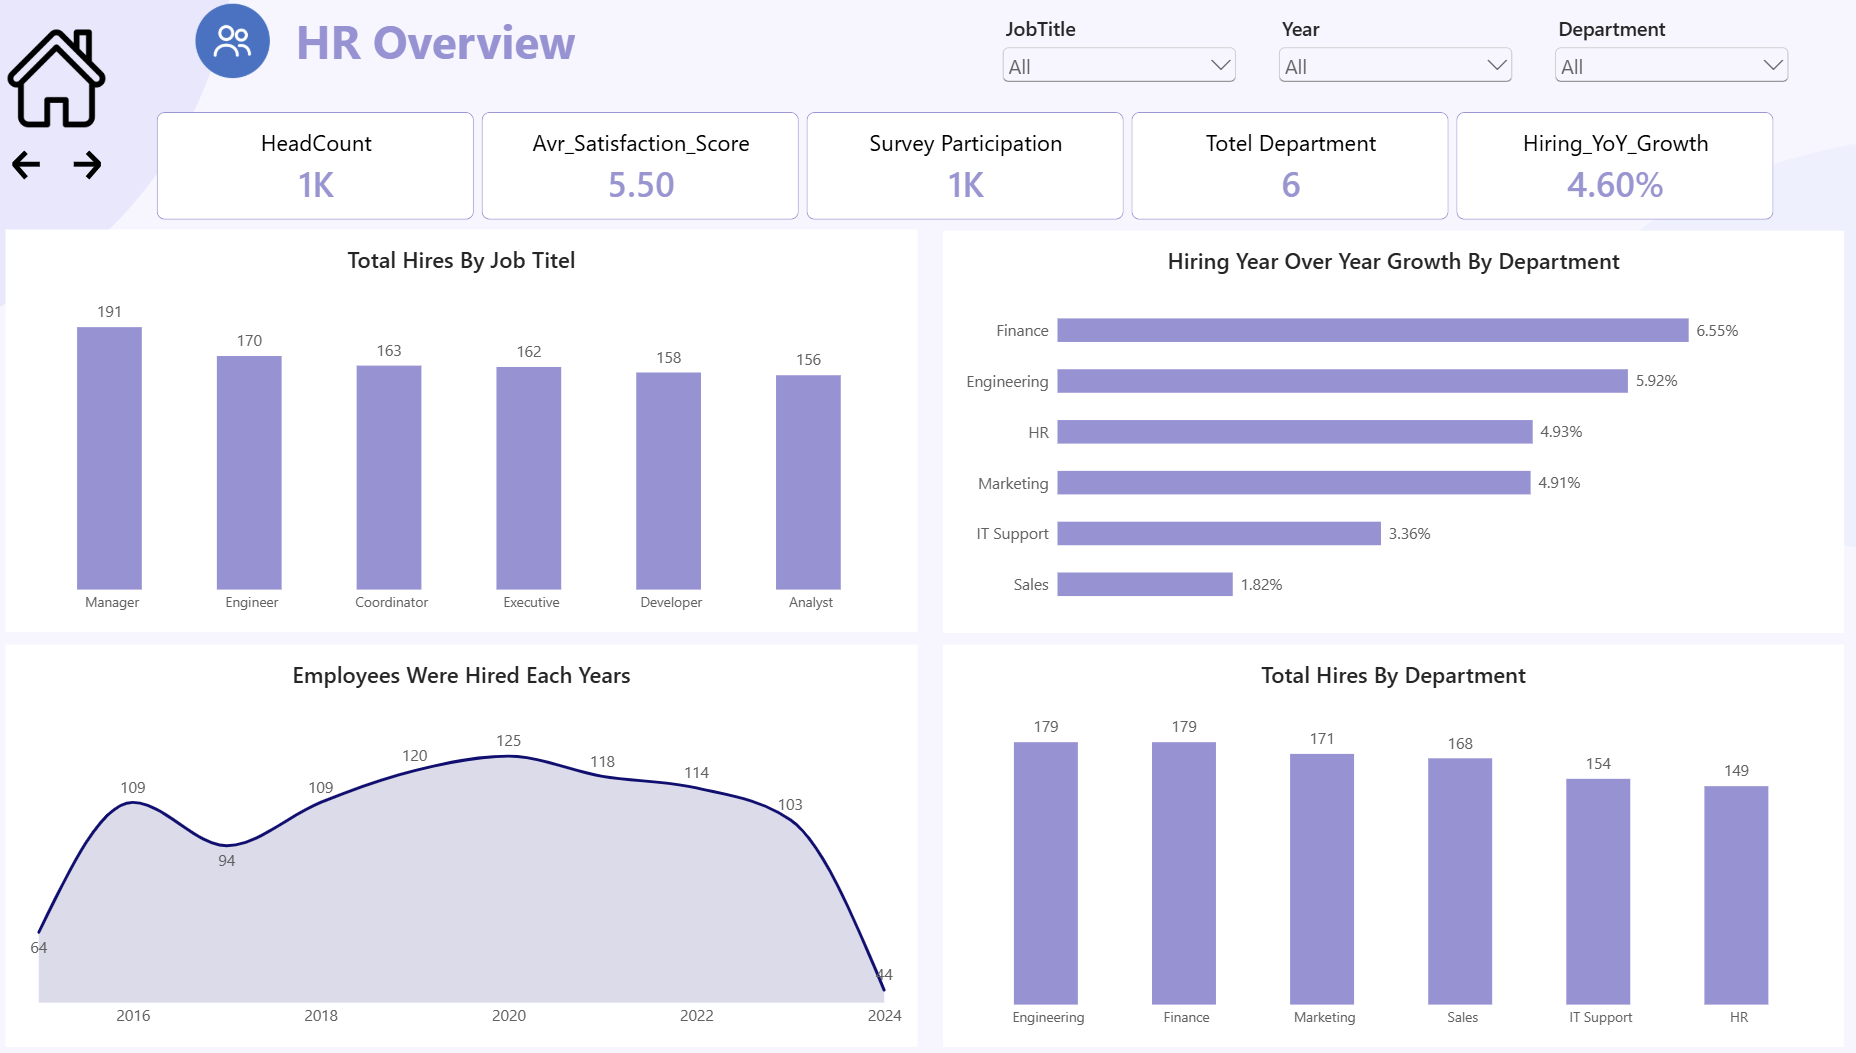

This screenshot's page, from the dashboard's own definition file:
{"tool":"powerbi","page":{"name":"HR Overview","canvas":[1920,1080],"ordinal":1},"visuals":[{"type":"image","box":[0,0,1920,1080.7],"z":0},{"type":"shape","box":[302.8,1.8,319.1,87],"z":1000},{"type":"slicer","fields":{"Values":["Employees.JobTitle"]},"box":[1036.9,18.1,248.6,68.4],"z":2000},{"type":"cardVisual","fields":{"Data":["-measures.Head-Count","-measures.Avr_Satisfaction_Score","-measures.Survey Participation","-measures.Totel Department","-measures.Hiring_YoY_Growth"]},"box":[177.7,117.8,1656.5,110.1],"z":3000},{"type":"slicer","fields":{"Values":["Hiring.Year"]},"box":[1319.5,18.1,248.6,68.4],"z":4000},{"type":"slicer","fields":{"Values":["Hiring.Department"]},"box":[1602.2,18.1,248.6,68.4],"z":5000},{"type":"image","box":[10.9,32.6,126.9,99.7],"z":6000},{"type":"actionButton","box":[74.3,152.3,63.5,39.9],"z":7000},{"type":"actionButton","box":[10.9,152.3,67.1,39.9],"z":8000},{"type":"image","box":[217.6,1.8,76.1,87],"z":9000},{"type":"columnChart","title":"Total Hires By Department","fields":{"Category":["Employees.Department"],"Y":["CountNonNull(Employees.EmployeeID)"]},"box":[980.8,661.8,921,411.6],"z":10000},{"type":"clusteredColumnChart","title":"Total Hires By Job Titel","fields":{"Category":["Employees.JobTitle"],"Y":["CountNonNull(Employees.EmployeeID)"]},"box":[23.6,237.4,931.9,411.6],"z":11000},{"type":"lineChart","title":"Employees Were Hired Each Years","fields":{"Category":["Hiring.Year"],"Y":["CountNonNull(Hiring.HiringID)"]},"box":[23.6,661.8,931.9,411.6],"z":12000},{"type":"clusteredBarChart","title":"Hiring Year Over Year Growth By Department","fields":{"Category":["Hiring.Department"],"Y":["-measures.Hiring_YoY_Growth"]},"box":[980.8,239.3,921,411.6],"z":13000}]}

Visuals, with their boxes in screenshot pixels (x1, y1, x2, y2), scaled from the page's 1920x1080 canvas onto the 1856x1053 screenshot:
image: 0,0,1855,1052
shape: 293,2,601,87
slicer - Employees.JobTitle: 1002,18,1243,84
cardVisual - -measures.Head-Count x -measures.Avr_Satisfaction_Score: 172,115,1773,222
slicer - Hiring.Year: 1276,18,1516,84
slicer - Hiring.Department: 1549,18,1789,84
image: 11,32,133,129
actionButton: 72,148,133,187
actionButton: 11,148,75,187
image: 210,2,284,87
"Total Hires By Department" columnChart: 948,645,1838,1047
"Total Hires By Job Titel" clusteredColumnChart: 23,231,924,633
"Employees Were Hired Each Years" lineChart: 23,645,924,1047
"Hiring Year Over Year Growth By Department" clusteredBarChart: 948,233,1838,635
